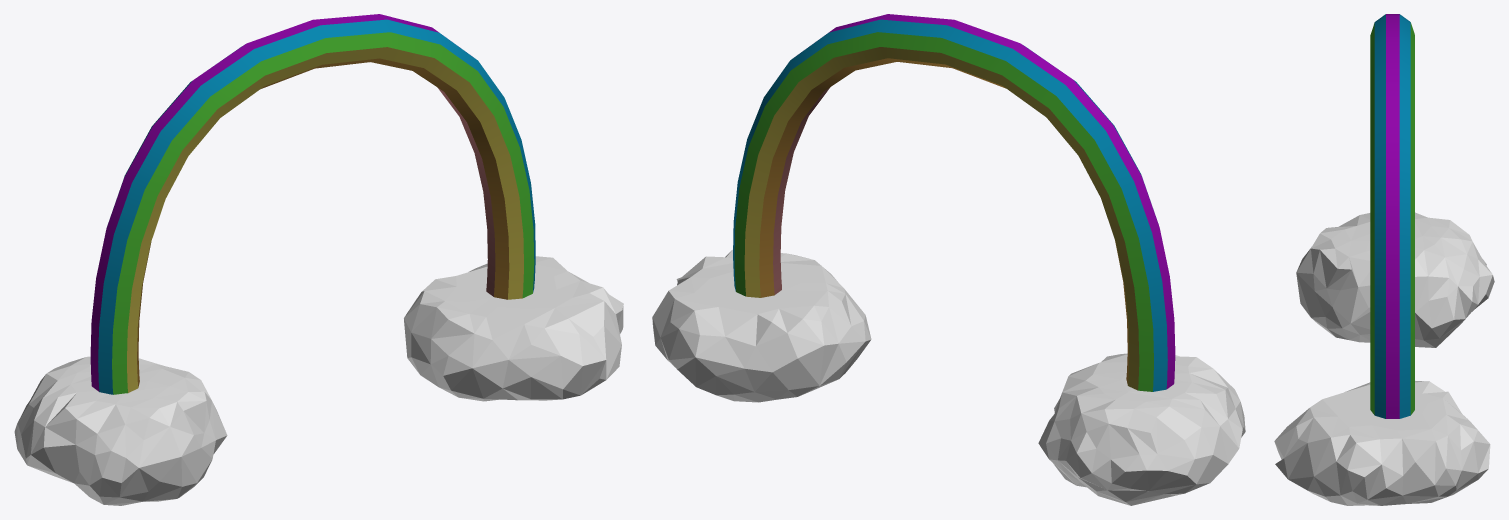
File: rainbow.fbx
The picture shows the model from 3 angles, left to right: view 1: azimuth 30°, elevation 25°; view 2: azimuth 150°, elevation 25°; view 3: azimuth 270°, elevation 25°; orthographic projection. The views are drawn at different scales.
Parts seen in each view (by area): view 1: arch, cloud_1, cloud_2; view 2: arch, cloud_1, cloud_2; view 3: cloud_1, arch, cloud_2.
Part boxes in pixels (<box>): arch: <box>90,14,535,394</box>; cloud_1: <box>404,256,623,401</box>; cloud_2: <box>14,356,227,505</box>; arch: <box>733,14,1175,391</box>; cloud_1: <box>652,249,871,402</box>; cloud_2: <box>1038,353,1245,505</box>; cloud_1: <box>1274,380,1490,505</box>; arch: <box>1370,14,1414,418</box>; cloud_2: <box>1296,212,1494,347</box>.
Size of the model in its own units: 7.04 by 4.85 by 2.55.
